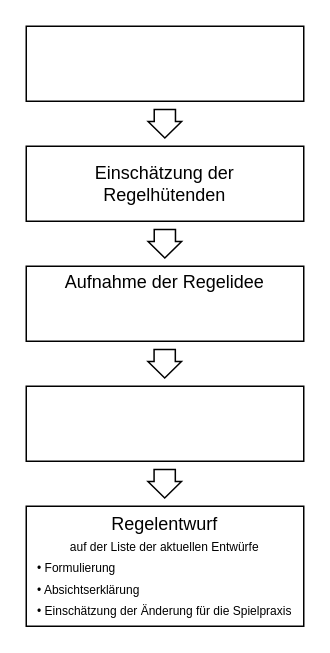
This 330x653 diagram has some shape labels left out. The shapes that lost their labels are listed below. From the top down, each one's centre as x and y in pixels, then its label:
At (164,63): "Regelidee • Absicht • Regelthema oder Formulierungsvorschlag".
At (164,423): "Bearbeitung durch die Regelhütenden an festgelegten Terminen".
